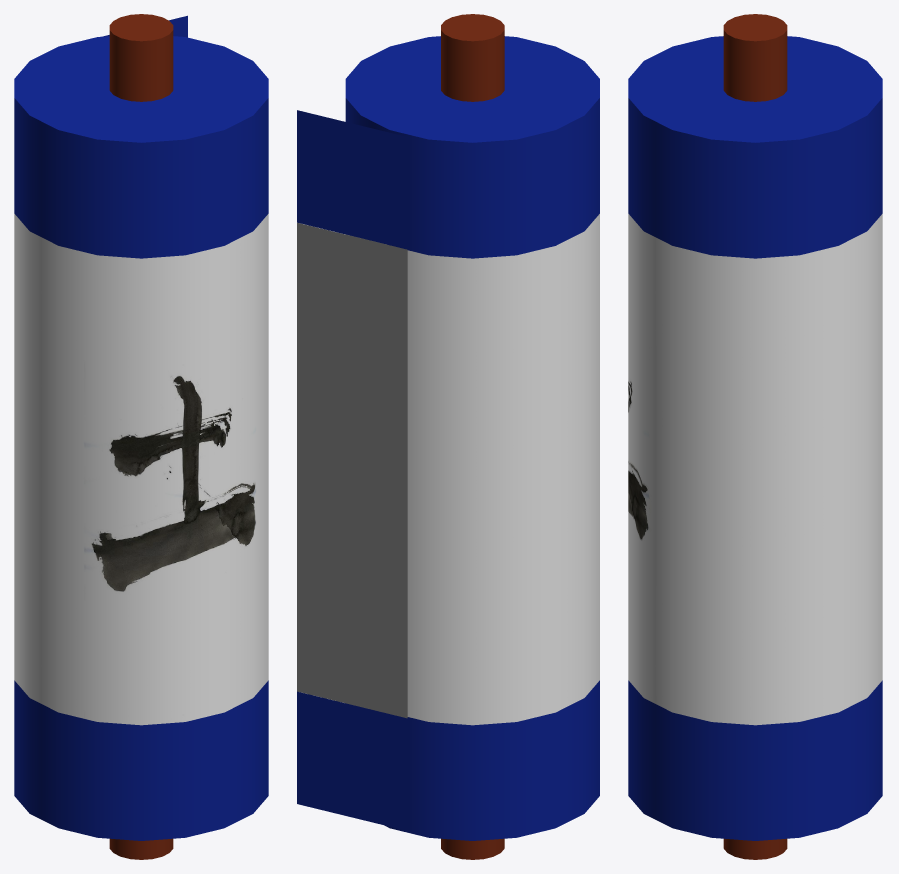
Rendered from Ninja Scroll.FBX.
The picture shows the model from 3 angles, left to right: view 1: azimuth 30°, elevation 25°; view 2: azimuth 150°, elevation 25°; view 3: azimuth 270°, elevation 25°; orthographic projection.
Visible parts, largest first — view 1: Paperwork, Paperwork002, Paperwork001, Cylinder001; view 2: Paperwork, Plane001, Paperwork002, Paperwork001, Plane002, Plane003, Cylinder001; view 3: Paperwork, Paperwork002, Paperwork001, Cylinder001.
Part boxes in pixels (bbox=[...]): Paperwork: bbox=[14, 214, 268, 725]; Paperwork002: bbox=[14, 36, 268, 258]; Paperwork001: bbox=[14, 680, 268, 840]; Cylinder001: bbox=[109, 14, 173, 859]; Paperwork: bbox=[348, 214, 599, 725]; Plane001: bbox=[297, 222, 407, 718]; Paperwork002: bbox=[345, 36, 599, 258]; Paperwork001: bbox=[384, 680, 599, 840]; Plane002: bbox=[297, 110, 407, 249]; Plane003: bbox=[297, 691, 407, 830]; Cylinder001: bbox=[441, 14, 504, 859]; Paperwork: bbox=[628, 214, 882, 725]; Paperwork002: bbox=[628, 36, 882, 258]; Paperwork001: bbox=[628, 680, 882, 840]; Cylinder001: bbox=[723, 14, 787, 859].
Bounding box in the file's own units: 20 × 70 × 19.85.
